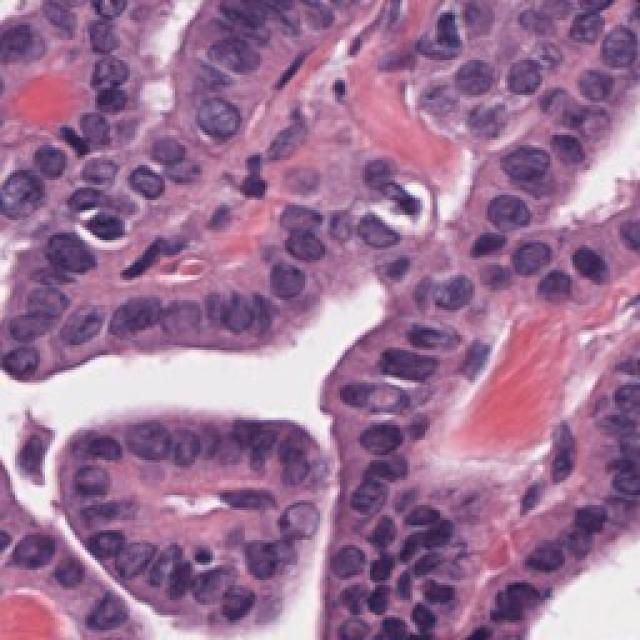abnormal: (440, 40, 518, 122), (94, 284, 174, 359), (188, 85, 270, 157), (335, 371, 440, 426), (477, 133, 580, 185), (360, 332, 452, 390), (247, 250, 318, 323), (408, 265, 490, 327), (457, 180, 538, 242), (270, 492, 340, 563), (0, 145, 55, 233), (570, 55, 628, 135), (344, 415, 424, 468), (47, 293, 108, 360), (493, 227, 557, 290), (316, 530, 372, 602), (490, 40, 547, 108), (125, 405, 175, 477), (345, 203, 412, 253), (533, 265, 585, 322), (105, 532, 150, 595)
